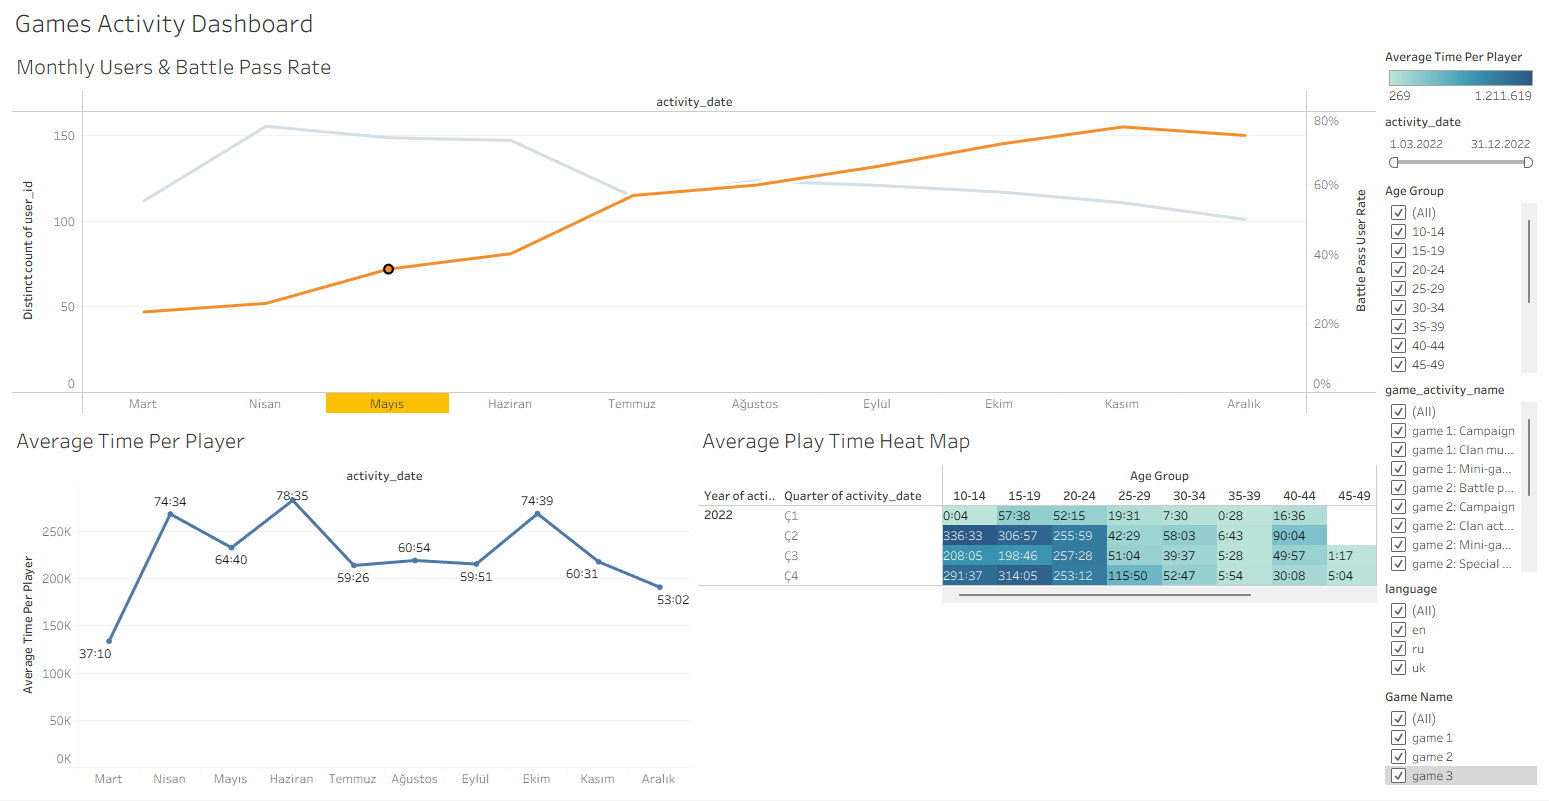

The page's visual inventory and layout, read from the dashboard file:
{"tool":"tableau","page":{"name":"Games Activity Dashboard","canvas":[1000,1000],"units":"permille","ordinal":0},"visuals":[{"type":"title","box":[5.2,9.9,989.7,52.1]},{"type":"worksheet","title":"Monthly Users & Battle Pass Rate","mark":"Automatic","rows":["user_id","Calculation_1958247047340033"],"cols":["activity_date"],"box":[5.2,62,886.4,463.9]},{"type":"legend","title":"Average Play Time Heat Map","param":"[federated.0jafzym0tjvz5z1b36stw0fgeif9].[usr:Calculation_1958247057846275:qk]","box":[891.6,62,103.3,80.7]},{"type":"filter","title":"Monthly Users & Battle Pass Rate","param":"[federated.0jafzym0tjvz5z1b36stw0fgeif9].[none:activity_date:qk]","box":[891.6,142.7,103.3,85.6]},{"type":"filter","title":"Monthly Users & Battle Pass Rate","param":"[federated.0jafzym0tjvz5z1b36stw0fgeif9].[none:Calculation_1958247065575429:nk]","box":[891.6,228.3,103.3,246.9]},{"type":"filter","title":"Monthly Users & Battle Pass Rate","param":"[federated.0jafzym0tjvz5z1b36stw0fgeif9].[none:game_activity_name:nk]","box":[891.6,475.2,103.3,246.9]},{"type":"worksheet","title":"Average Time Per Player","mark":"Automatic","rows":["Calculation_1958247057846275"],"cols":["activity_date"],"box":[5.2,526,443.2,464.1]},{"type":"worksheet","title":"Average Play Time Heat Map","mark":"Square","rows":["activity_date","activity_date"],"cols":["Calculation_1958247065575429"],"box":[448.4,526,443.2,464.1]},{"type":"filter","title":"Monthly Users & Battle Pass Rate","param":"[federated.0jafzym0tjvz5z1b36stw0fgeif9].[none:language:nk]","box":[891.6,722.1,103.3,134]},{"type":"filter","title":"Monthly Users & Battle Pass Rate","param":"[federated.0jafzym0tjvz5z1b36stw0fgeif9].[none:Calculation_1958247088967686:nk]","box":[891.6,856.1,103.3,134]}]}

Visuals, with their boxes on the dashboard's canvas, which has no fixed pixel size, in thousandths of its width and height (x1, y1, x2, y2). These are canvas units, not pixel positions in the 1549x801 screenshot, which may show the page scaled, cropped or inside an application window:
title: bbox=(5, 10, 995, 62)
"Monthly Users & Battle Pass Rate" worksheet: bbox=(5, 62, 892, 526)
"Average Play Time Heat Map" legend: bbox=(892, 62, 995, 143)
"Monthly Users & Battle Pass Rate" filter: bbox=(892, 143, 995, 228)
"Monthly Users & Battle Pass Rate" filter: bbox=(892, 228, 995, 475)
"Monthly Users & Battle Pass Rate" filter: bbox=(892, 475, 995, 722)
"Average Time Per Player" worksheet: bbox=(5, 526, 448, 990)
"Average Play Time Heat Map" worksheet (Square marks): bbox=(448, 526, 892, 990)
"Monthly Users & Battle Pass Rate" filter: bbox=(892, 722, 995, 856)
"Monthly Users & Battle Pass Rate" filter: bbox=(892, 856, 995, 990)
